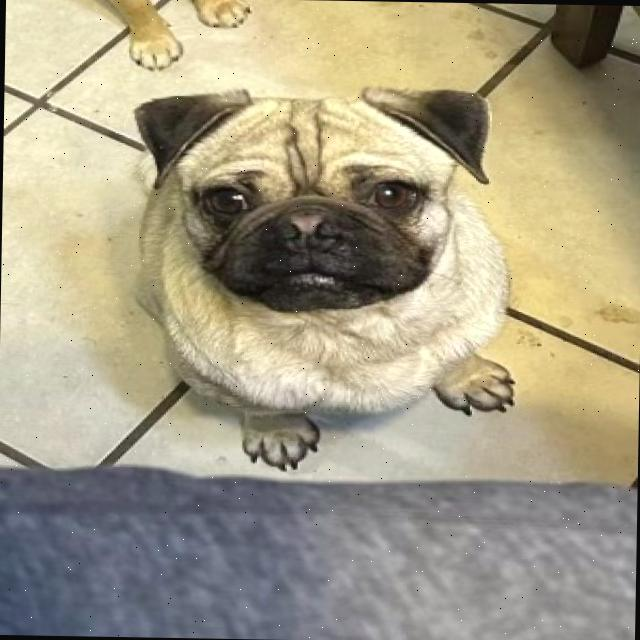pug_dog: (123, 74, 509, 329)
